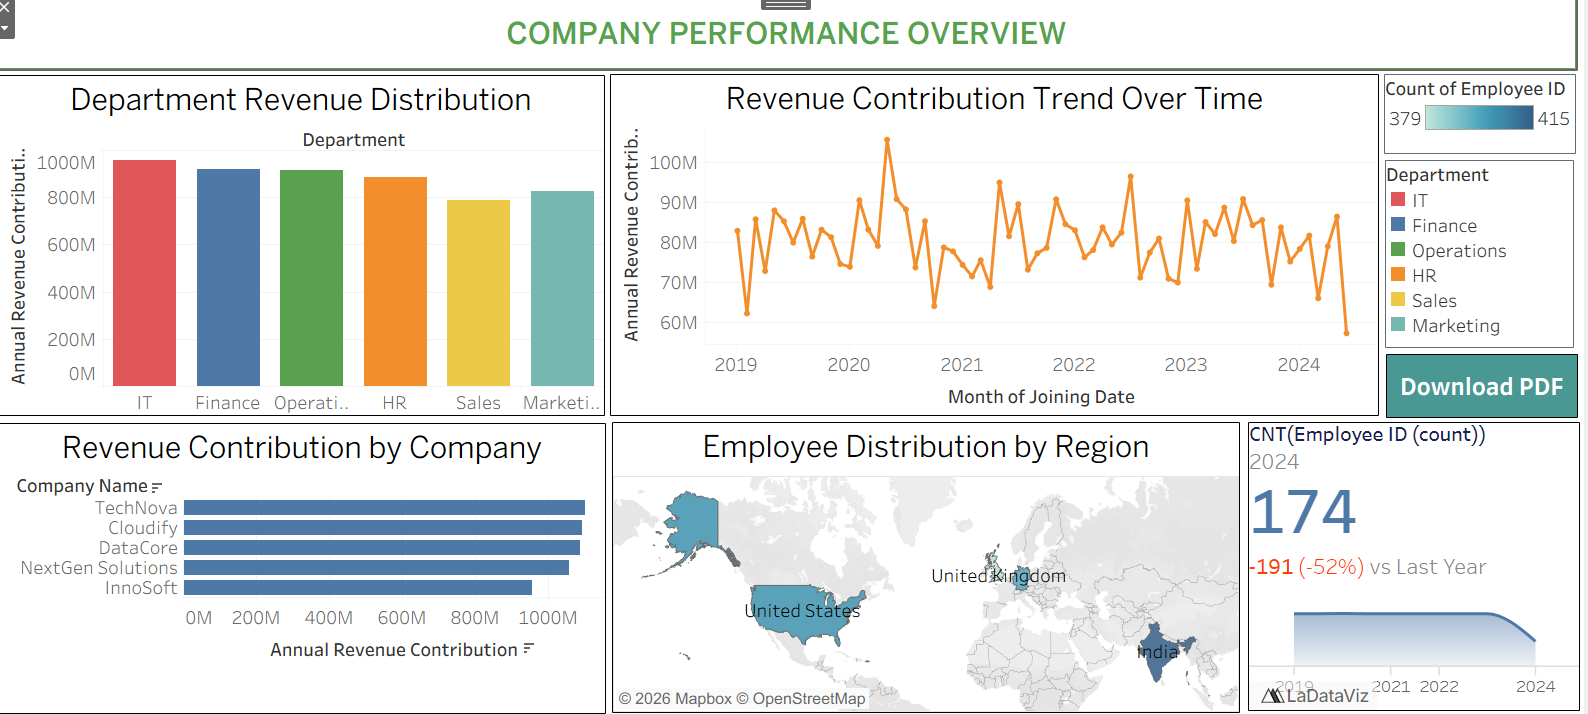

What the dashboard file says about the page in this screenshot:
{"tool":"tableau","page":{"name":"Dashboard 1","canvas":[1000,1000],"units":"permille","ordinal":0},"visuals":[{"type":"text","box":[1.2,16.4,974.7,95.9]},{"type":"worksheet","title":"REVENUE CONTRIBUTION TREND","mark":"Automatic","rows":["Annual_Revenue_Contribution"],"cols":["Joining_Date"],"box":[379.6,119.2,474.7,468.5]},{"type":"legend","title":"REGIONAL EMPLOYEE DISTRIBUTION","param":"[federated.07zks620ny4gbi10tl0fo1t7yrjh].[cnt:Employee_ID:qk]","box":[857.4,119.2,118.5,109.6]},{"type":"worksheet","title":"DEPARTMENT-WISE REVENUE","mark":"Automatic","rows":["Annual_Revenue_Contribution"],"cols":["Department"],"box":[1.2,120.5,375.3,467.1]},{"type":"legend","title":"DEPARTMENT-WISE REVENUE","param":"[federated.07zks620ny4gbi10tl0fo1t7yrjh].[none:Department:nk]","box":[858,237,116.7,257.5]},{"type":"dashboard-object","box":[858.6,502.7,118.5,87.7]},{"type":"worksheet","title":"REGIONAL EMPLOYEE DISTRIBUTION","mark":"Automatic","box":[380.9,595.9,387.7,398.6]},{"type":"worksheet","title":"KPI","box":[773.5,595.9,204.9,395.9]},{"type":"worksheet","title":"Revenue Contribution by Company","mark":"Automatic","rows":["Company_Name"],"cols":["Annual_Revenue_Contribution"],"box":[1.9,597.3,375.3,398.6]}]}

Visuals, with their boxes on the dashboard's canvas, which has no fixed pixel size, in thousandths of its width and height (x1, y1, x2, y2). These are canvas units, not pixel positions in the 1588x714 screenshot, which may show the page scaled, cropped or inside an application window:
text: detection(1, 16, 976, 112)
"REVENUE CONTRIBUTION TREND" worksheet: detection(380, 119, 854, 588)
"REGIONAL EMPLOYEE DISTRIBUTION" legend: detection(857, 119, 976, 229)
"DEPARTMENT-WISE REVENUE" worksheet: detection(1, 120, 376, 588)
"DEPARTMENT-WISE REVENUE" legend: detection(858, 237, 975, 494)
dashboard-object: detection(859, 503, 977, 590)
"REGIONAL EMPLOYEE DISTRIBUTION" worksheet: detection(381, 596, 769, 994)
"KPI" worksheet: detection(774, 596, 978, 992)
"Revenue Contribution by Company" worksheet: detection(2, 597, 377, 996)
